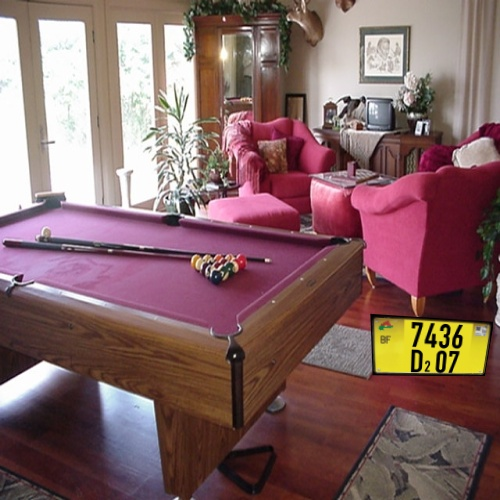plate: (357, 304, 496, 398)
